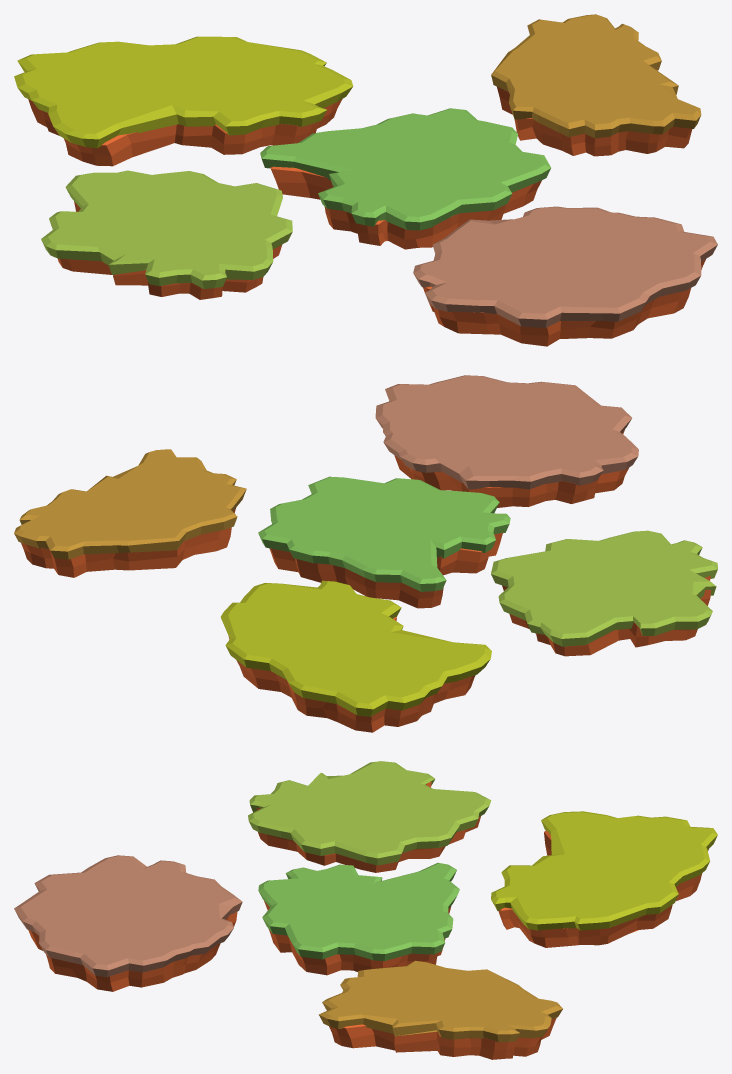
The model's file is islas_arregladas.fbx.
The picture shows the model from 3 angles, top to bottom: view 1: azimuth 30°, elevation 25°; view 2: azimuth 150°, elevation 25°; view 3: azimuth 270°, elevation 25°; orthographic projection. The views are drawn at different scales.
Visible parts, largest first — view 1: Plane.003, Plane.011, Plane.010, Plane.005, Plane.013, Plane.012, Plane.004, Plane.007, Plane.014, Plane.006; view 2: Plane.003, Plane.011, Plane.010, Plane.005, Plane.013, Plane.004, Plane.012, Plane.014, Plane.007, Plane.006; view 3: Plane.003, Plane.011, Plane.010, Plane.005, Plane.013, Plane.014, Plane.012, Plane.007, Plane.004, Plane.006.
Part boxes in pixels (x1,y1,x2,y2): Plane.003: (413, 206, 717, 327); Plane.011: (14, 36, 353, 148); Plane.010: (41, 170, 292, 288); Plane.005: (260, 108, 550, 230); Plane.013: (491, 14, 701, 138); Plane.012: (28, 99, 342, 166); Plane.004: (270, 166, 541, 249); Plane.007: (423, 259, 705, 346); Plane.014: (497, 69, 692, 156); Plane.006: (58, 201, 281, 299); Plane.003: (375, 375, 638, 489); Plane.011: (220, 580, 491, 716); Plane.010: (491, 530, 717, 646); Plane.005: (258, 476, 510, 591); Plane.013: (14, 449, 246, 559); Plane.004: (269, 532, 502, 608); Plane.012: (228, 617, 475, 732); Plane.014: (21, 508, 235, 577); Plane.007: (394, 430, 628, 507); Plane.006: (502, 576, 711, 656); Plane.003: (14, 855, 242, 977); Plane.011: (491, 811, 717, 930); Plane.010: (248, 761, 491, 865); Plane.005: (258, 862, 459, 961); Plane.013: (318, 960, 562, 1042); Plane.014: (329, 1018, 556, 1059); Plane.012: (498, 830, 708, 947); Plane.007: (28, 911, 237, 991); Plane.004: (264, 901, 451, 975); Plane.006: (256, 782, 480, 872).
Size of the model in its own units: 26993 by 1540 by 29171.
